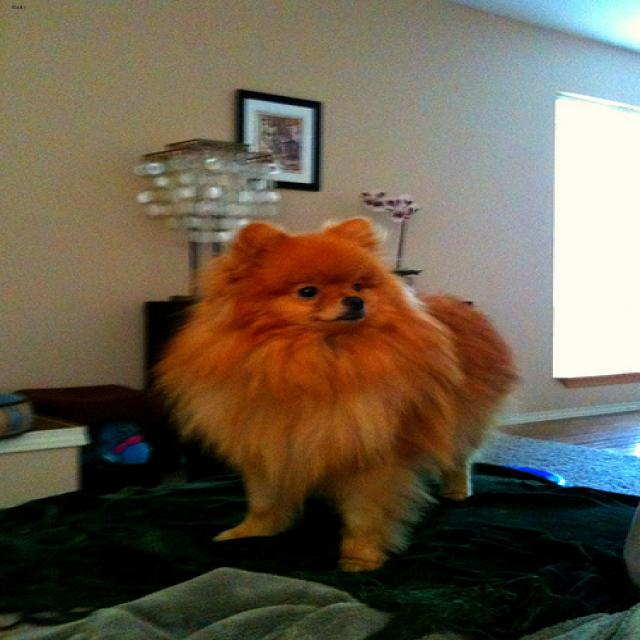dog-pomeranian: (138, 204, 539, 585)
